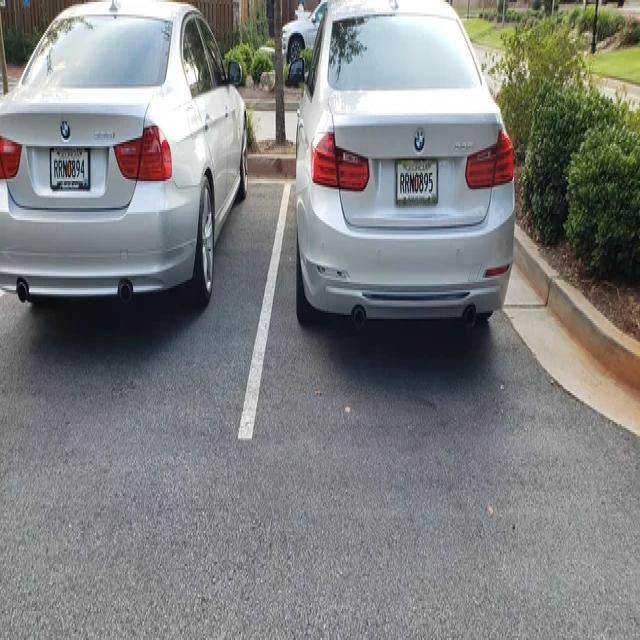license: (46, 136, 94, 204), (393, 152, 440, 215)
